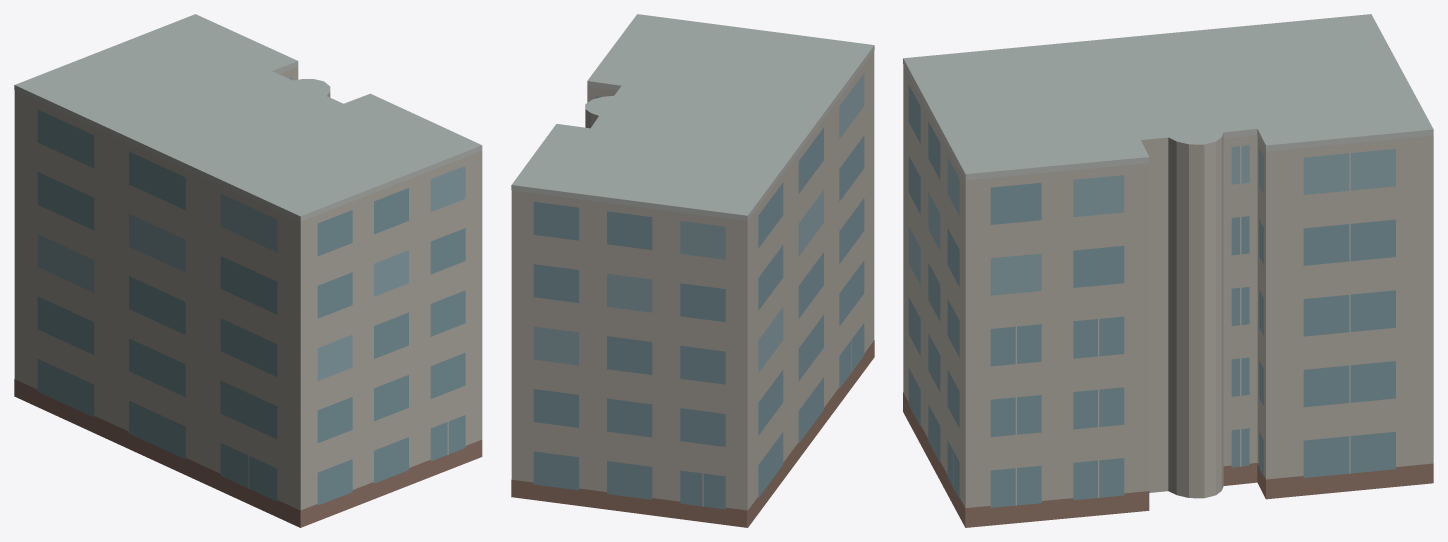
Rendered from survey-upis-32806738.glb.
The picture shows the model from 3 angles, left to right: view 1: azimuth 30°, elevation 25°; view 2: azimuth 150°, elevation 25°; view 3: azimuth 270°, elevation 25°; orthographic projection. The views are drawn at different scales.
Visible parts, largest first — view 1: survey-upis-32806738.tmp; view 2: survey-upis-32806738.tmp; view 3: survey-upis-32806738.tmp.
Boxes of the visible parts, x1=… form: survey-upis-32806738.tmp: x1=14, y1=14, x2=482, y2=527; survey-upis-32806738.tmp: x1=511, y1=14, x2=874, y2=527; survey-upis-32806738.tmp: x1=903, y1=14, x2=1433, y2=527.
Size of the model in its own units: 13.8 by 14.2 by 19.32.
